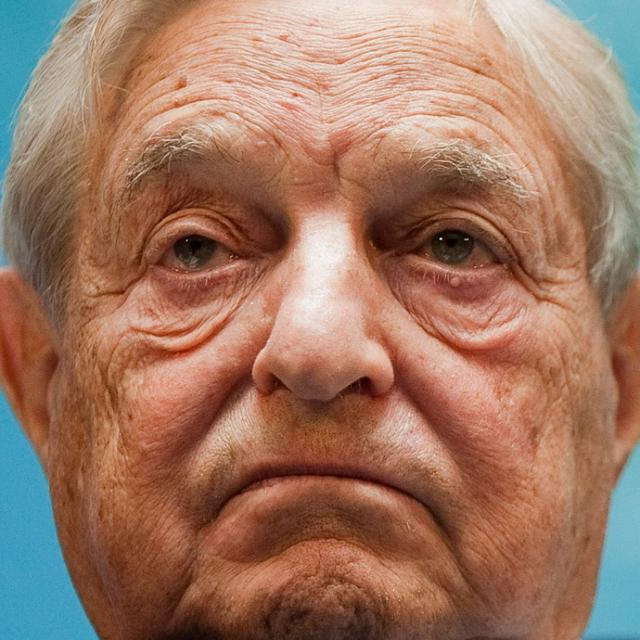Depress: (48, 5, 606, 639)
